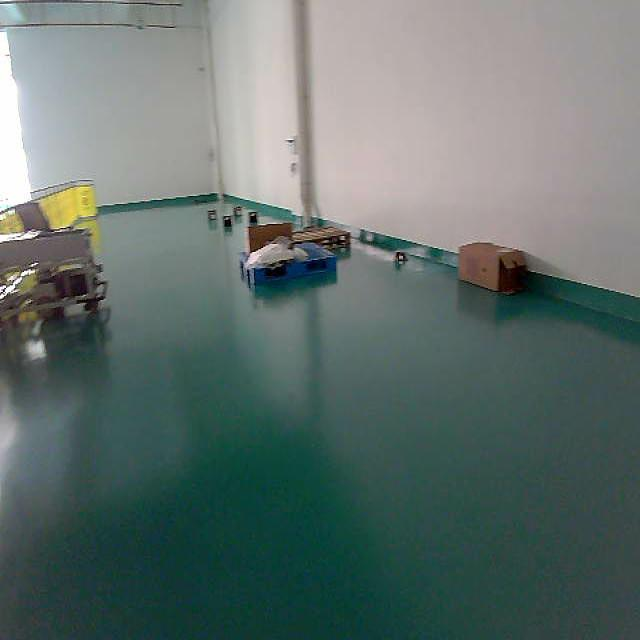euro: (292, 227, 350, 252)
